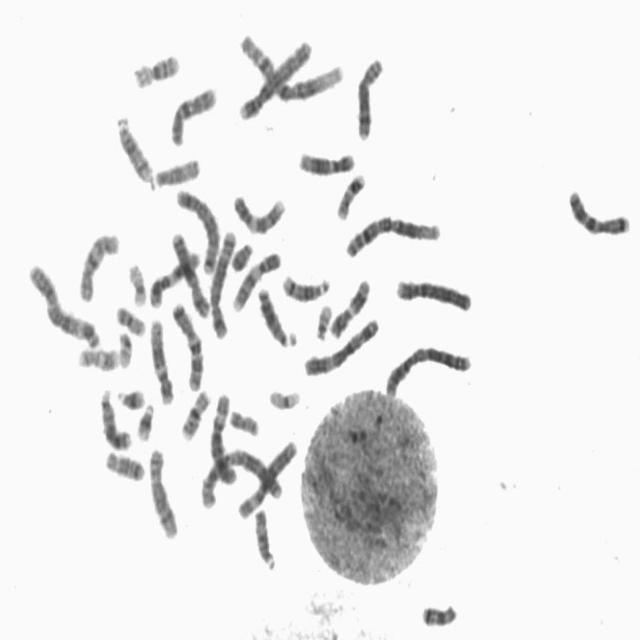A1: (236, 26, 346, 102), (340, 208, 443, 260)
A2: (196, 440, 293, 510), (379, 338, 474, 400)
A3: (23, 256, 102, 350), (299, 310, 381, 378)
B4: (235, 32, 313, 122), (391, 271, 474, 313)
B5: (172, 180, 221, 275), (206, 223, 237, 339)
C10: (74, 224, 121, 304), (166, 78, 218, 148)
C11: (145, 243, 202, 310), (326, 271, 372, 340)
C12: (146, 313, 176, 407), (293, 143, 358, 176)
C6: (234, 434, 299, 520), (207, 386, 240, 487)
C7: (563, 181, 632, 238), (167, 294, 206, 393)
C8: (143, 441, 180, 541), (352, 49, 386, 143)
C9: (228, 243, 283, 314), (229, 186, 288, 236)
D13: (254, 280, 297, 350), (96, 383, 133, 452)
D14: (112, 109, 155, 185), (277, 266, 331, 303)
D15: (150, 150, 202, 189), (250, 501, 278, 573)
E16: (129, 45, 182, 90), (176, 382, 212, 443)
E17: (333, 166, 367, 221), (74, 341, 121, 373)
E18: (101, 444, 147, 484), (416, 596, 459, 629)
F19: (124, 256, 148, 308), (264, 380, 302, 412)
F20: (111, 299, 147, 337), (225, 402, 261, 438)
G21: (133, 397, 156, 442), (114, 381, 146, 411)
G22: (312, 297, 334, 341), (114, 325, 134, 369)
X: (167, 224, 211, 319)
Y: (227, 237, 254, 273)
